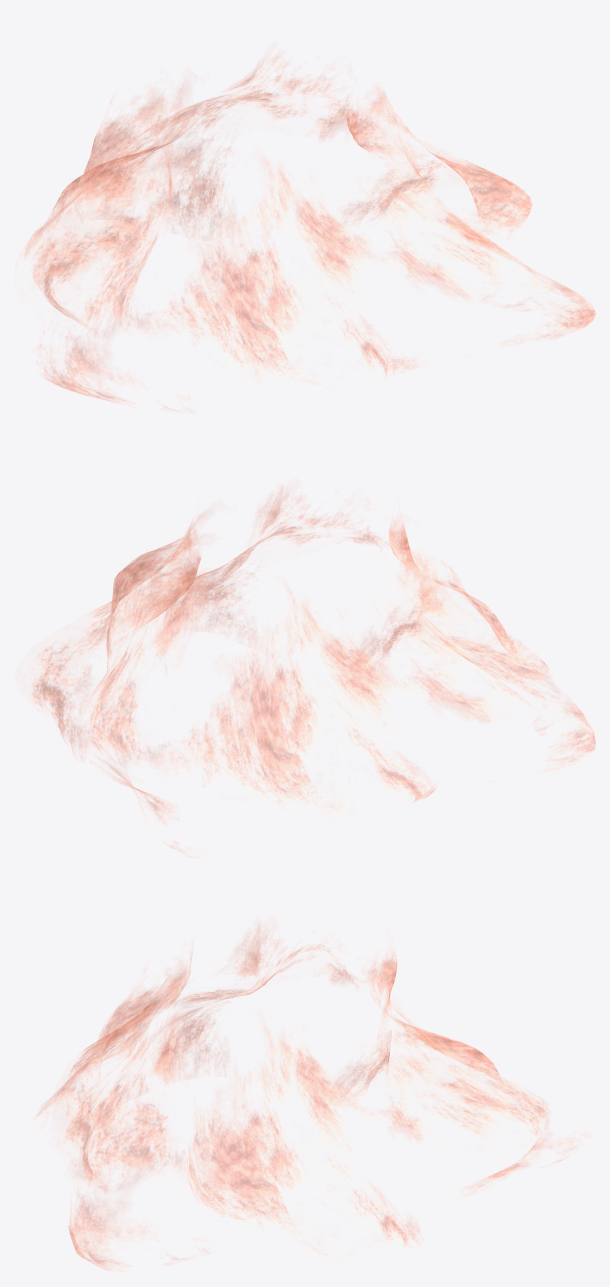
The model's file is devil_skirt_a.glb.
The picture shows the model from 3 angles, top to bottom: view 1: azimuth 30°, elevation 25°; view 2: azimuth 150°, elevation 25°; view 3: azimuth 270°, elevation 25°; orthographic projection. The views are drawn at different scales.
Visible parts, largest first — view 1: devil_skirt_a; view 2: devil_skirt_a; view 3: devil_skirt_a.
Part boxes in pixels (x1,y1,x2,y2): devil_skirt_a: [15, 52, 595, 410]; devil_skirt_a: [24, 486, 595, 857]; devil_skirt_a: [34, 922, 590, 1271].
Bounding box in the file's own units: 17.93 × 8 × 18.22.
Materials: 1 (1 with a texture image).
